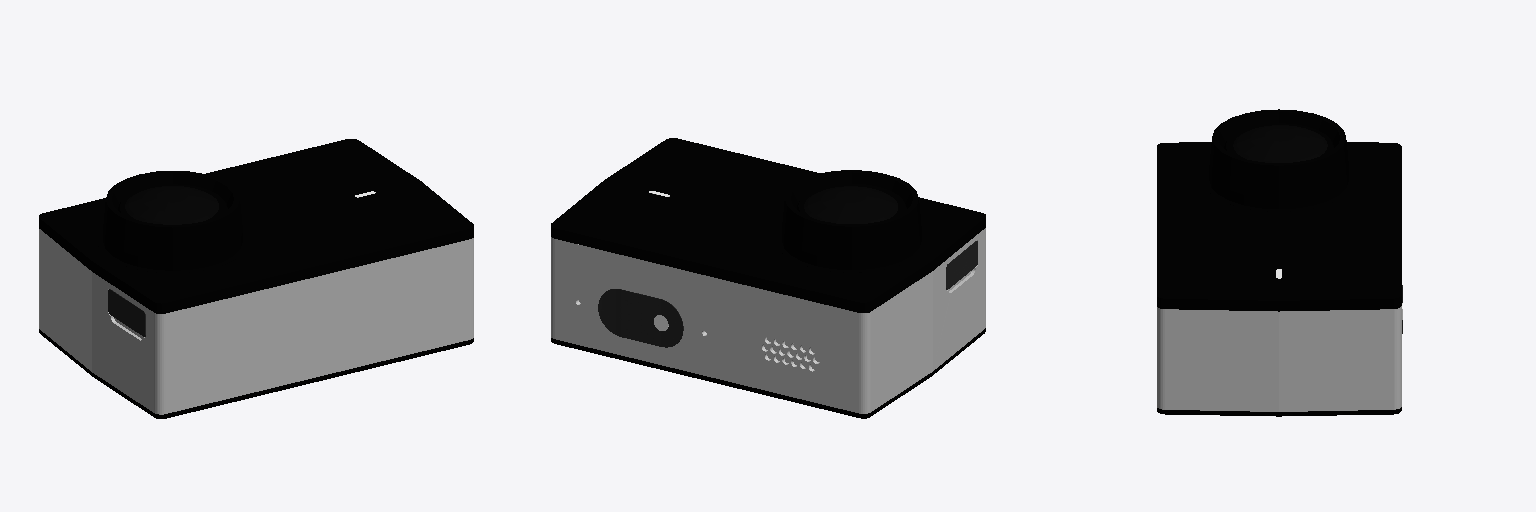
The picture shows the model from 3 angles: view 1: azimuth 30°, elevation 25°; view 2: azimuth 150°, elevation 25°; view 3: azimuth 270°, elevation 25°; orthographic projection.
Parts seen in each view (by area): view 1: mainbody_mat_blcack_0, front_Material_#37_0, lens001_poly_Material_#37_0, Sphere001_Material_#231_0, back_Material_#37_0, usb_cap_holder_mat_blcack_0, back_glass_Material_#2_0, c_Material_#37_0; view 2: mainbody_mat_blcack_0, front_Material_#37_0, lens001_poly_Material_#37_0, Rectangle002_mat_blcack_0, Sphere001_Material_#231_0, back_Material_#37_0, usb_cap_holder_mat_blcack_0, back_glass_Material_#2_0, c_Material_#37_0, Sphere001_Material_#37_0; view 3: front_Material_#37_0, mainbody_mat_blcack_0, lens001_poly_Material_#37_0, Sphere001_Material_#231_0, c_Material_#37_0, back_Material_#37_0.
Boxes of the visible parts, box(x1,y1,x2,y2) form: mainbody_mat_blcack_0: box(39, 229, 473, 414); front_Material_#37_0: box(39, 139, 473, 313); lens001_poly_Material_#37_0: box(103, 171, 242, 270); Sphere001_Material_#231_0: box(125, 186, 218, 224); back_Material_#37_0: box(39, 329, 473, 416); usb_cap_holder_mat_blcack_0: box(108, 289, 145, 336); back_glass_Material_#2_0: box(39, 332, 473, 418); c_Material_#37_0: box(97, 229, 248, 272); mainbody_mat_blcack_0: box(551, 228, 985, 413); front_Material_#37_0: box(551, 138, 985, 312); lens001_poly_Material_#37_0: box(782, 170, 921, 269); Rectangle002_mat_blcack_0: box(598, 289, 683, 347); Sphere001_Material_#231_0: box(804, 186, 897, 223); back_Material_#37_0: box(551, 328, 985, 416); usb_cap_holder_mat_blcack_0: box(946, 241, 977, 289); back_glass_Material_#2_0: box(551, 331, 985, 418); c_Material_#37_0: box(776, 229, 927, 272); Sphere001_Material_#37_0: box(797, 184, 906, 217); front_Material_#37_0: box(1157, 142, 1401, 311); mainbody_mat_blcack_0: box(1157, 306, 1401, 411); lens001_poly_Material_#37_0: box(1209, 109, 1348, 208); Sphere001_Material_#231_0: box(1233, 125, 1327, 162); c_Material_#37_0: box(1203, 168, 1354, 211); back_Material_#37_0: box(1157, 407, 1401, 414).
Size of the model in its own units: 0.65 by 0.3069 by 0.4229.
Materials: 8 (1 with a texture image).